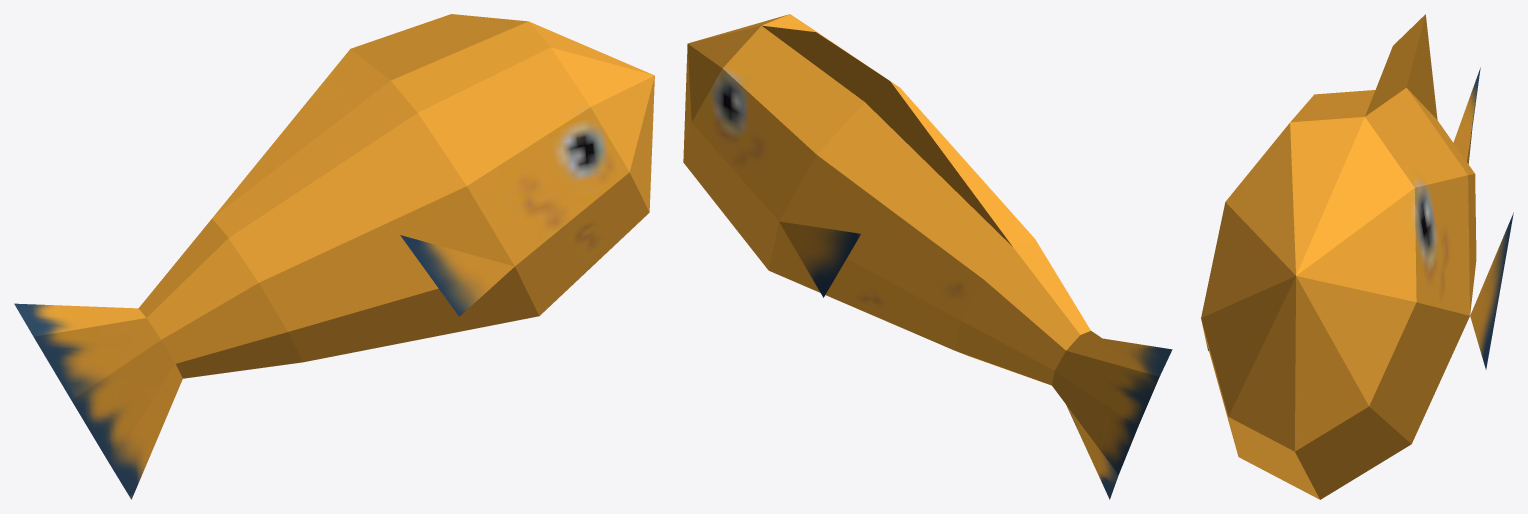
The model's file is fish.gltf.
3 renders of one model, left to right at view 1: azimuth 30°, elevation 25°; view 2: azimuth 150°, elevation 25°; view 3: azimuth 270°, elevation 25°, orthographic. The views are drawn at different scales.
Parts seen in each view (by area): view 1: fish; view 2: fish; view 3: fish.
Part boxes in pixels (x1,y1,x2,y2): fish: (14, 14, 654, 499); fish: (683, 14, 1172, 499); fish: (1201, 14, 1513, 499).
Size of the model in its own units: 0.8409 by 0.5757 by 0.2766.
1 material, 1 textured.
